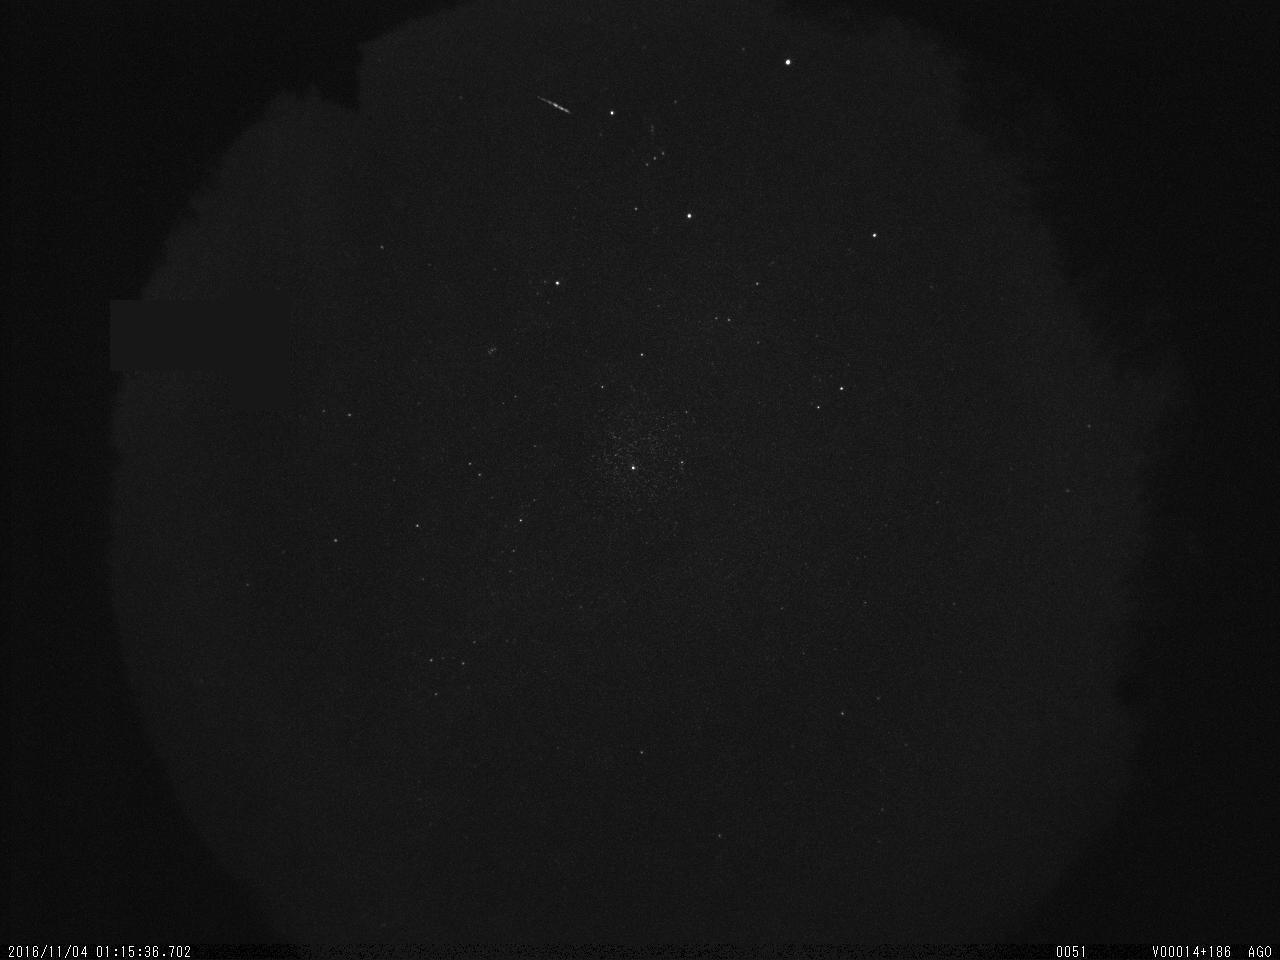meteor: (526, 84, 579, 121)
